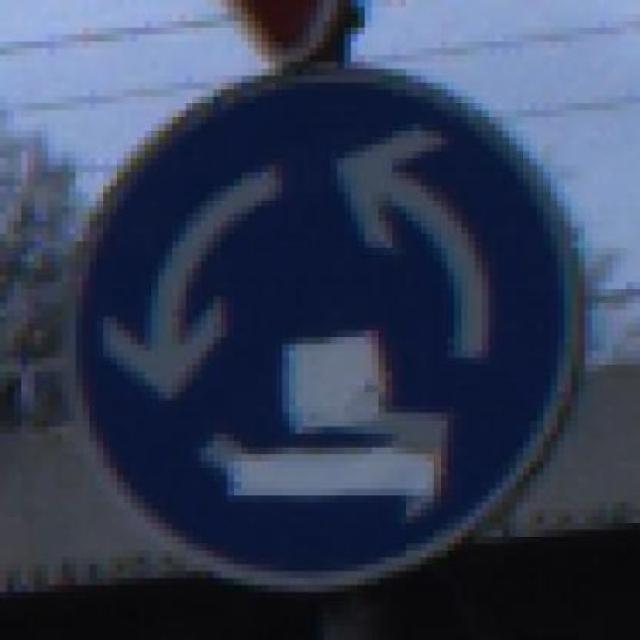Round-About: (55, 55, 613, 599)
